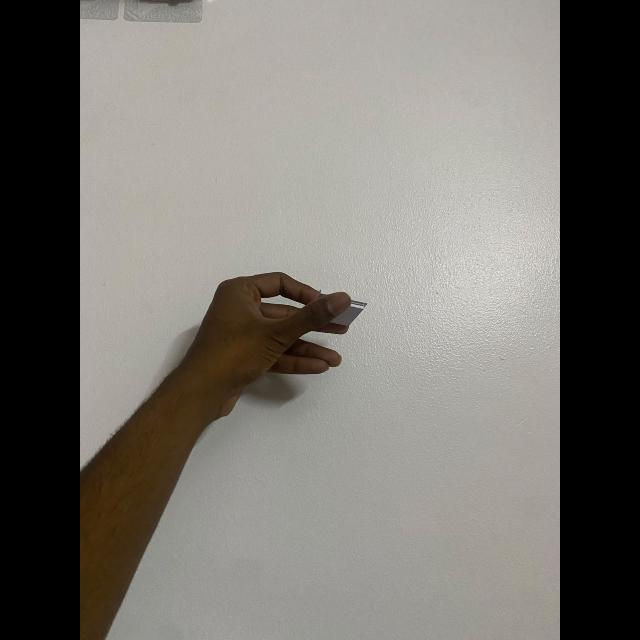RASPBERY PI CAM ENCLOSURE: (327, 299, 367, 327)
